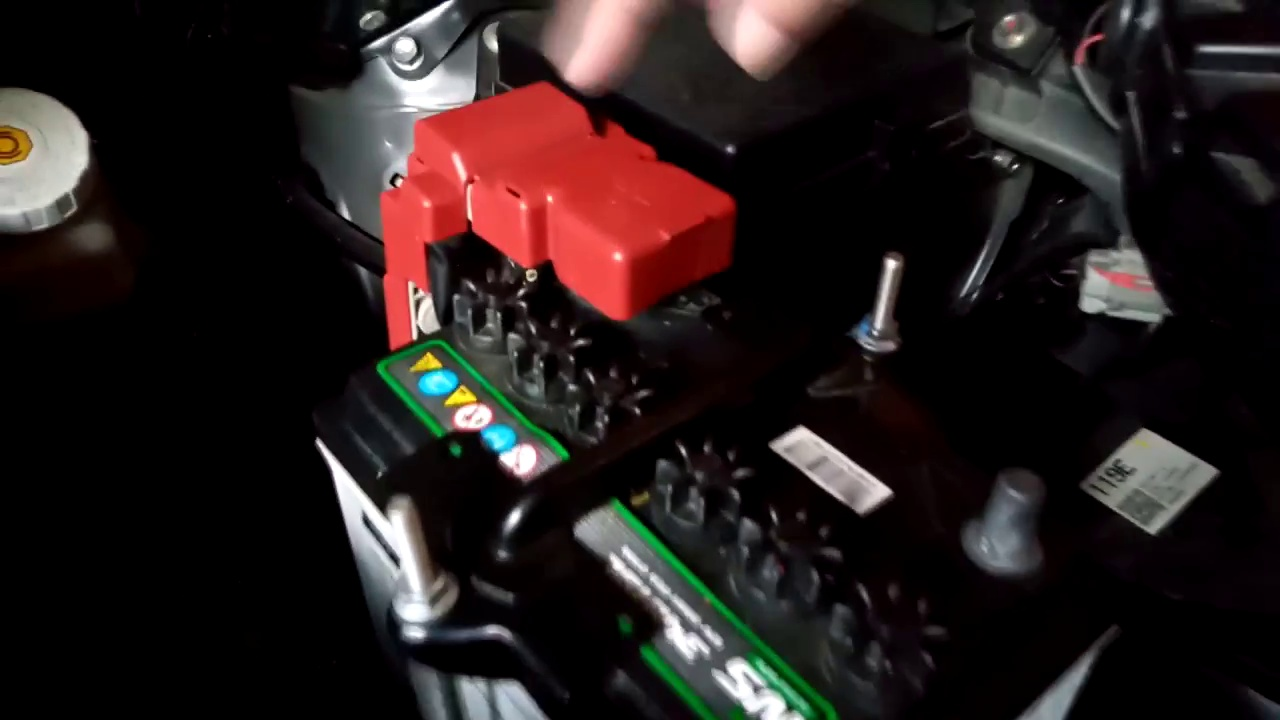battery: (331, 186, 1126, 720)
neg_disconnected: (924, 420, 1127, 601)
pos_connected: (324, 87, 757, 385)
